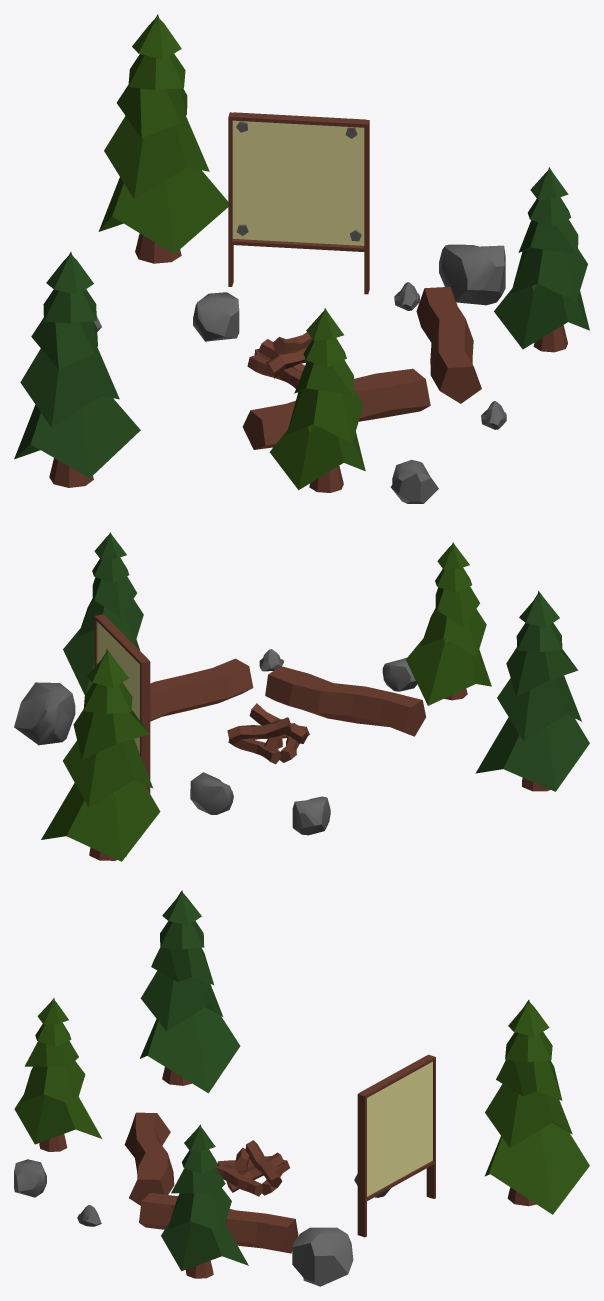
The model's file is ScoutBaseLVL1.fbx.
3 renders of one model, top to bottom at view 1: azimuth 30°, elevation 25°; view 2: azimuth 150°, elevation 25°; view 3: azimuth 270°, elevation 25°, orthographic. The views are drawn at different scales.
Parts seen in each view (by area): view 1: ель.003, ель.002, Plane.001, ель.004, ель.001, Cylinder.002, Cylinder.001, Cube.002, Cube.003, Cylinder.003, Cube.005, Cube.006; view 2: ель.003, ель.002, ель.001, Cylinder.002, ель.004, Cylinder.001, Cube.003, Cylinder.003, Cube.002, Plane.001, Cube.005, Cube.004 (+1 smaller); view 3: ель.003, ель.002, ель.004, ель.001, Plane.001, Cylinder.001, Cylinder.002, Cube.002, Cube.003, Cylinder.003, Cube.006.
Boxes of the visible parts, <box> form: ель.003: <box>98,14,228,263</box>; ель.002: <box>14,252,140,487</box>; Plane.001: <box>232,120,364,245</box>; ель.004: <box>494,167,589,352</box>; ель.001: <box>269,308,365,492</box>; Cylinder.002: <box>242,368,430,449</box>; Cylinder.001: <box>416,286,481,403</box>; Cube.002: <box>228,112,369,294</box>; Cube.003: <box>439,244,505,305</box>; Cylinder.003: <box>247,332,312,388</box>; Cube.005: <box>193,292,239,341</box>; Cube.006: <box>390,459,438,503</box>; ель.003: <box>41,649,160,861</box>; ель.002: <box>475,590,589,791</box>; ель.001: <box>406,542,491,705</box>; Cylinder.002: <box>265,666,425,736</box>; ель.004: <box>63,532,143,694</box>; Cylinder.001: <box>150,658,253,721</box>; Cube.003: <box>14,682,75,745</box>; Cylinder.003: <box>227,703,309,764</box>; Cube.002: <box>94,614,150,793</box>; Plane.001: <box>97,622,139,753</box>; Cube.005: <box>190,772,233,814</box>; Cube.004: <box>292,796,330,835</box>; ель.003: <box>484,1000,589,1214</box>; ель.002: <box>140,890,240,1093</box>; ель.004: <box>161,1124,248,1278</box>; ель.001: <box>14,998,102,1151</box>; Plane.001: <box>367,1061,432,1196</box>; Cylinder.001: <box>139,1193,298,1253</box>; Cylinder.002: <box>124,1112,174,1205</box>; Cube.002: <box>357,1054,435,1237</box>; Cube.003: <box>292,1227,353,1286</box>; Cylinder.003: <box>216,1140,289,1196</box>; Cube.006: <box>14,1159,46,1197</box>.
Bounding box in the file's own units: 719 × 299 × 742.
